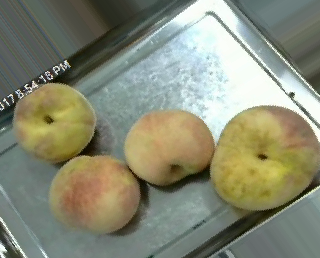Peach: (209, 107, 318, 210), (49, 154, 140, 234), (124, 107, 213, 187), (13, 81, 96, 162)
